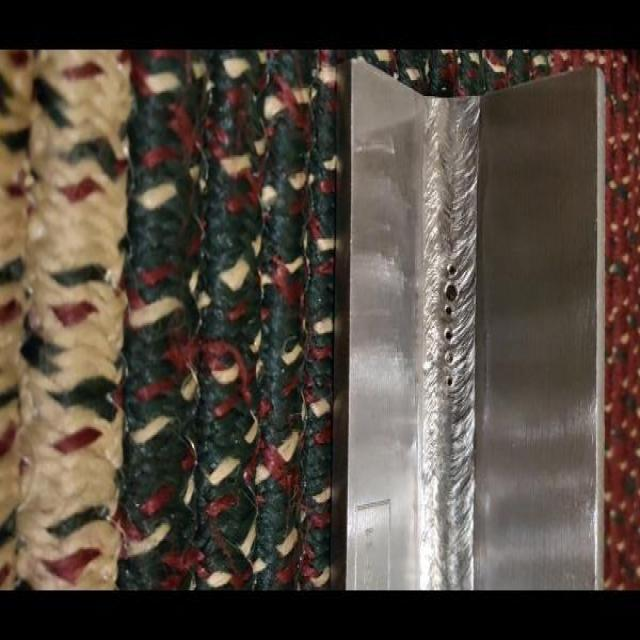Welding Line: (425, 99, 473, 591)
Workpiece: (337, 90, 603, 590)
porosity: (442, 260, 458, 386)
